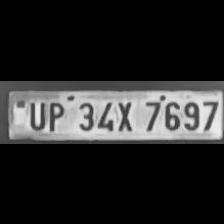3: (72, 97, 94, 130)
4: (94, 98, 114, 130)
6: (161, 98, 181, 130)
7: (138, 97, 160, 130), (200, 97, 218, 130)
9: (180, 98, 200, 130)
P: (44, 98, 66, 130)
U: (25, 97, 45, 128)
X: (114, 97, 134, 130)
